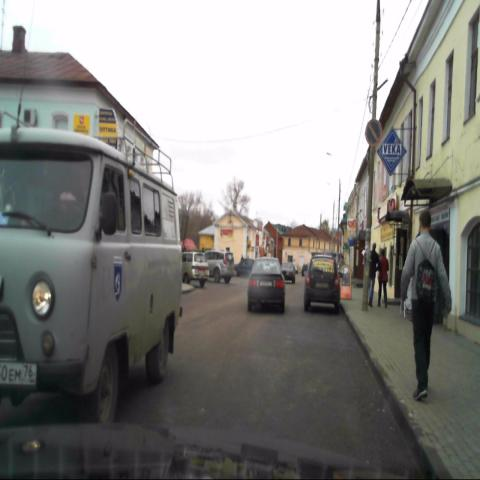3_28: (364, 118, 384, 150)
